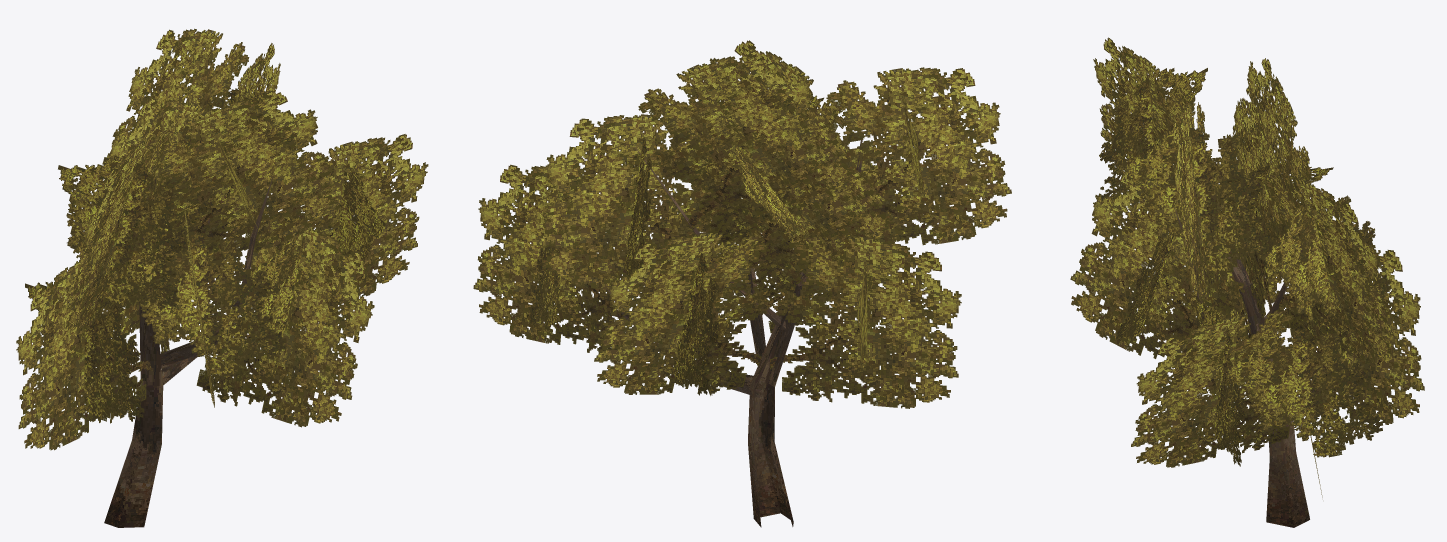
Rendered from stage-maya-p4-88.glb.
The picture shows the model from 3 angles, left to right: view 1: azimuth 30°, elevation 25°; view 2: azimuth 150°, elevation 25°; view 3: azimuth 270°, elevation 25°; orthographic projection. The views are drawn at different scales.
Bounding box in the file's own units: 24.43 × 24.87 × 17.15.
Materials: 3 (3 with a texture image).
